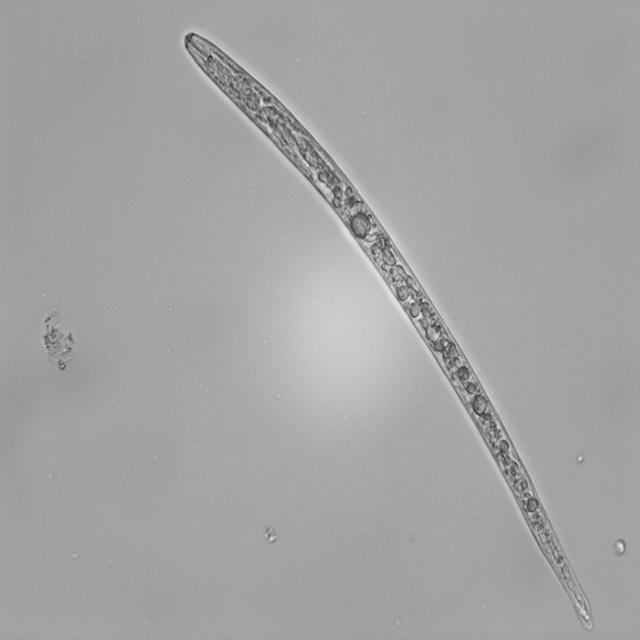Radopholus: (180, 25, 601, 631)
